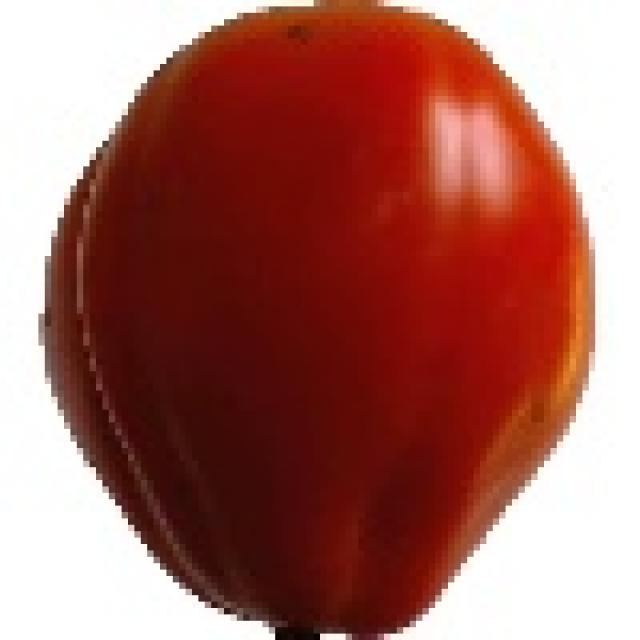tomato: (37, 4, 600, 640)
